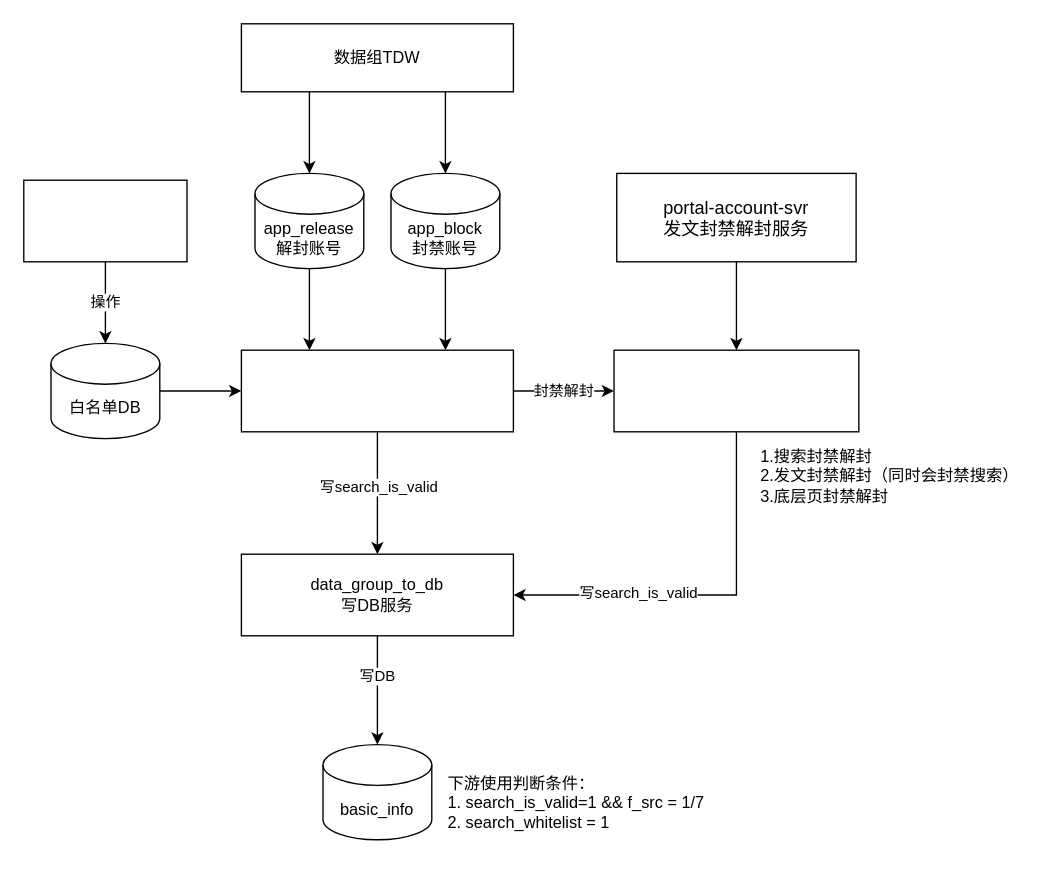
Image size: 1054x884. Some labels were removed from this diagram. The centre of each missing label's shape, as x and y in pixels:
go_kd_account_shield_daemon 封禁解封定时任务服务: the point at 376,390
server: the point at 104,220
封禁解封服务: the point at 736,390
